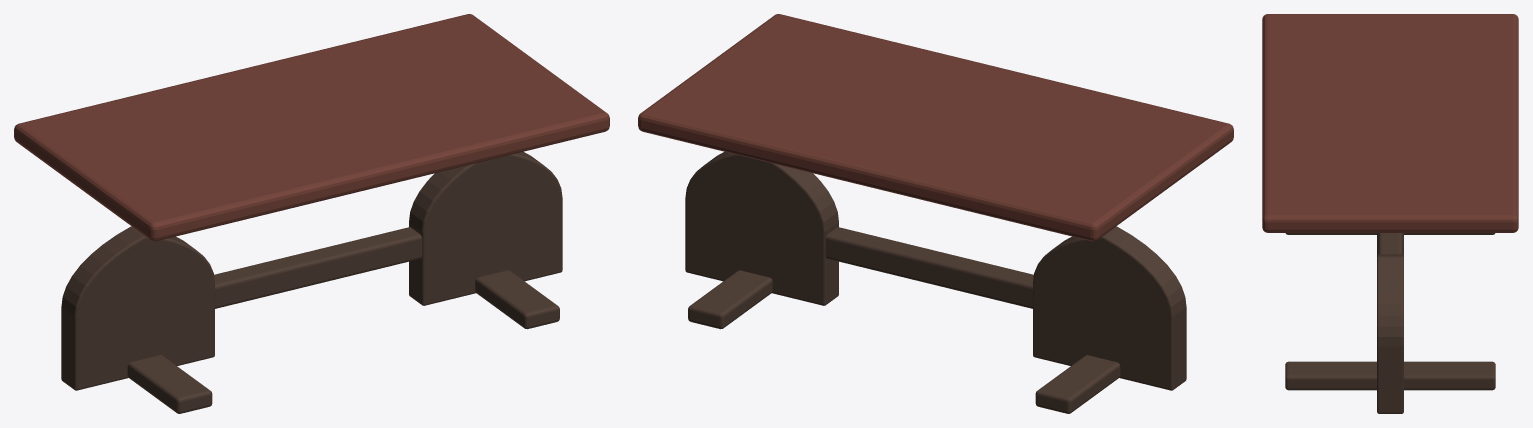
File: table.glb
3 renders of one model, left to right at view 1: azimuth 30°, elevation 25°; view 2: azimuth 150°, elevation 25°; view 3: azimuth 270°, elevation 25°, orthographic. The views are drawn at different scales.
Visible parts, largest first — view 1: GD_table; view 2: GD_table; view 3: GD_table.
Boxes of the visible parts, x1,y1,x2,y2 form: GD_table: (14, 14, 609, 413); GD_table: (638, 14, 1233, 413); GD_table: (1262, 14, 1518, 413).
Size of the model in its own units: 1.91 by 0.78 by 0.95.
